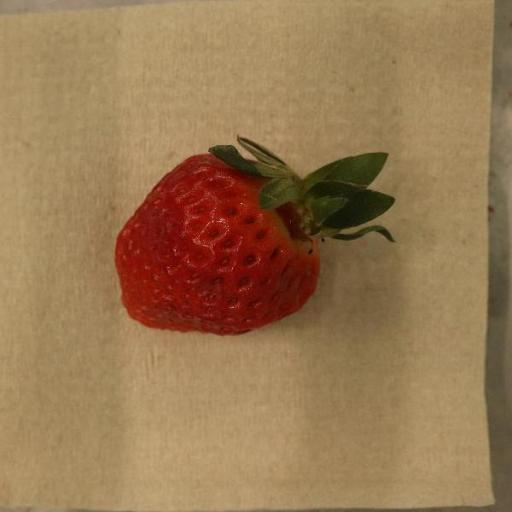Strawberry: (114, 136, 396, 337)
